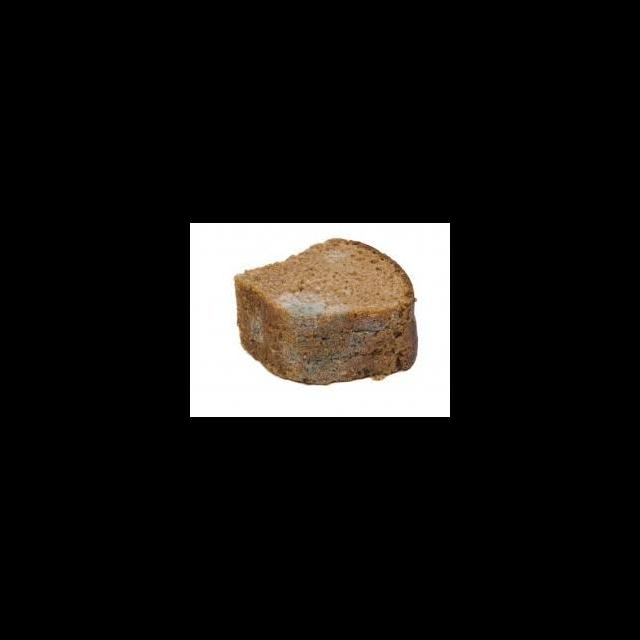food_waste: (221, 232, 436, 390)
